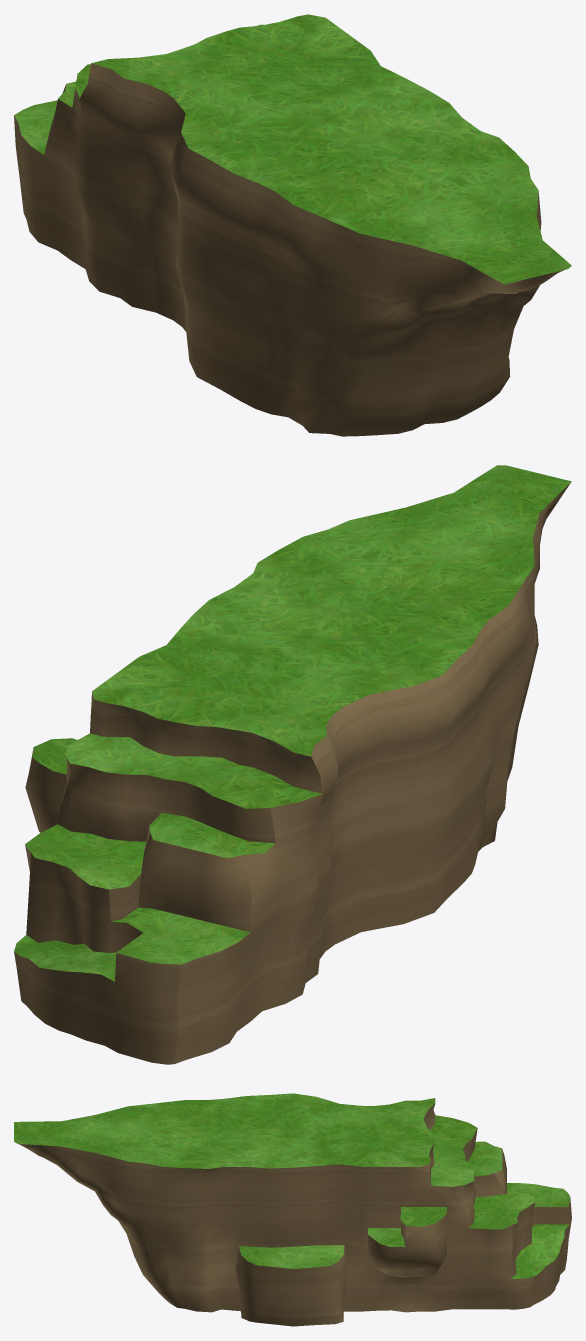
Rendered from lvl1_plat014.FBX.
The picture shows the model from 3 angles, top to bottom: view 1: azimuth 30°, elevation 25°; view 2: azimuth 150°, elevation 25°; view 3: azimuth 270°, elevation 25°; orthographic projection. The views are drawn at different scales.
Parts seen in each view (by area): view 1: lvl1_platf_014, lvl1_platf_014_grass; view 2: lvl1_platf_014, lvl1_platf_014_grass; view 3: lvl1_platf_014, lvl1_platf_014_grass.
Boxes of the visible parts, x1,y1,x2,y2 form: lvl1_platf_014: (14,63,566,436); lvl1_platf_014_grass: (14,14,571,284); lvl1_platf_014: (14,483,570,1064); lvl1_platf_014_grass: (14,465,571,981); lvl1_platf_014: (18,1103,571,1326); lvl1_platf_014_grass: (14,1093,570,1278).
Bounding box in the file's own units: 1412 × 1013 × 3466.
